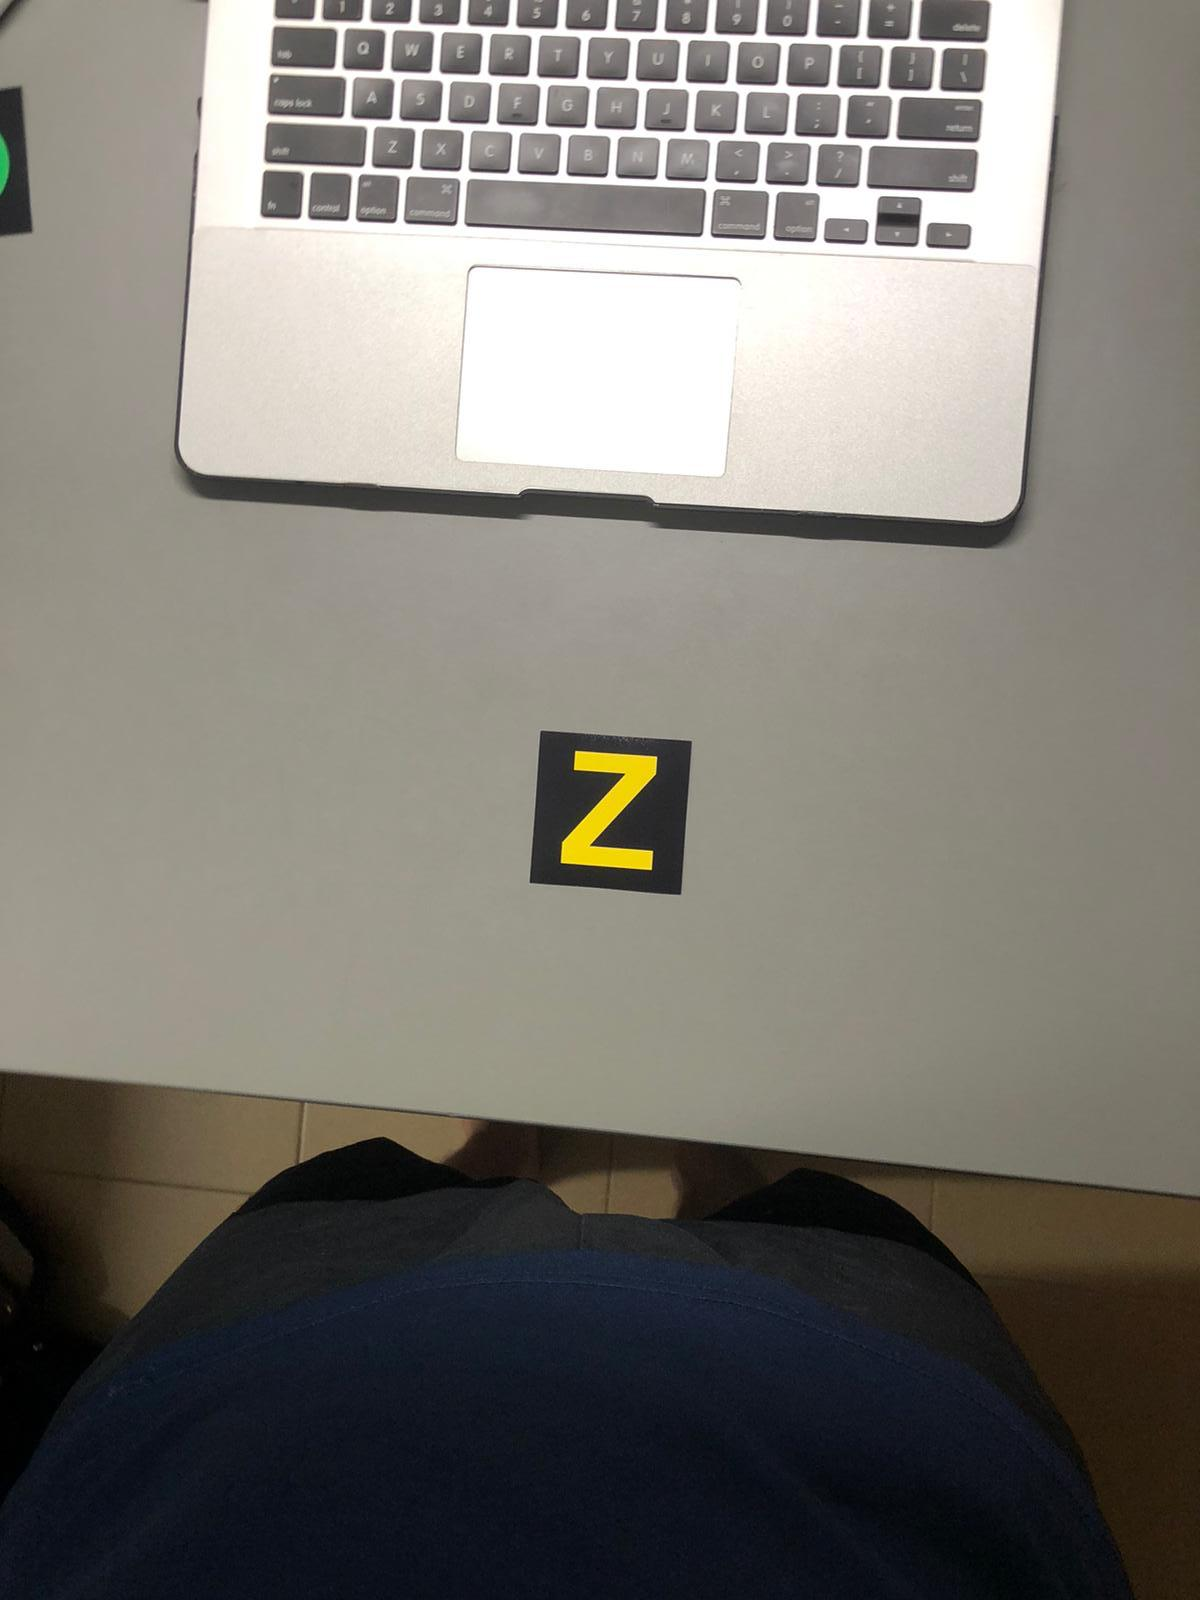Z: (542, 729, 679, 888)
